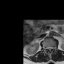CCS_normal: (49, 45, 50, 52)
LFS_stenosis: (52, 45, 54, 50)
LLS_normal: (50, 45, 52, 51)
RFS_normal: (45, 45, 47, 50)
RLS_normal: (47, 45, 49, 50)
